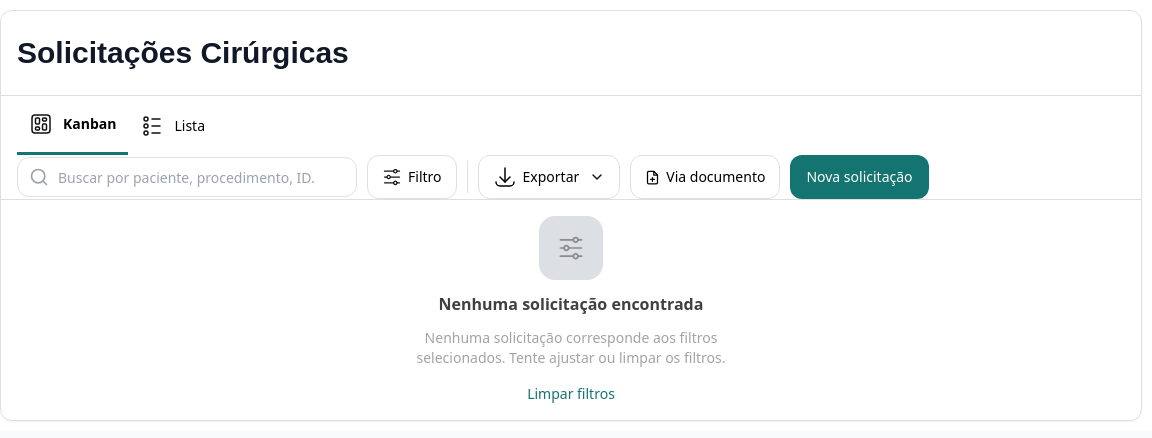
Test: Solicitações — exportar relatório em PDF › avisa o usuário quando a geração do PDF falha
The image size is (1152, 438).
Click the button "Exportar".
click(549, 177)  # box [478,155,620,199]
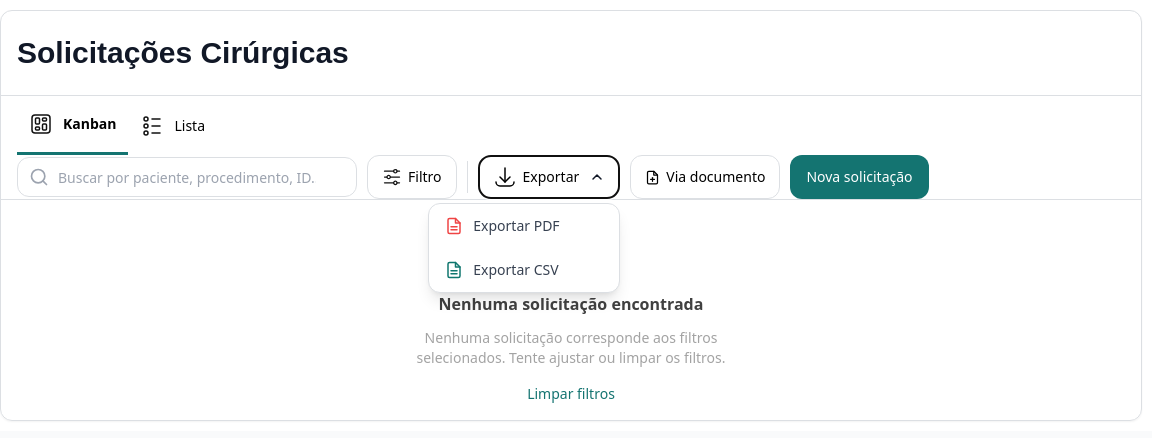
Click the button "Exportar PDF".
click(524, 226)  # box [429,204,619,248]
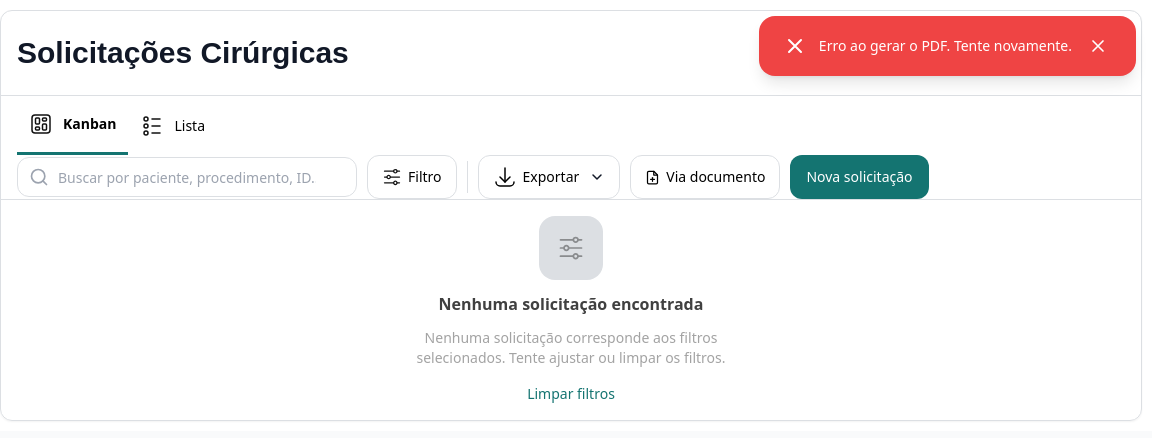
Expected: the text "Erro ao gerar o PDF. Tente novamente." is shown, [819,36,1072,56]
